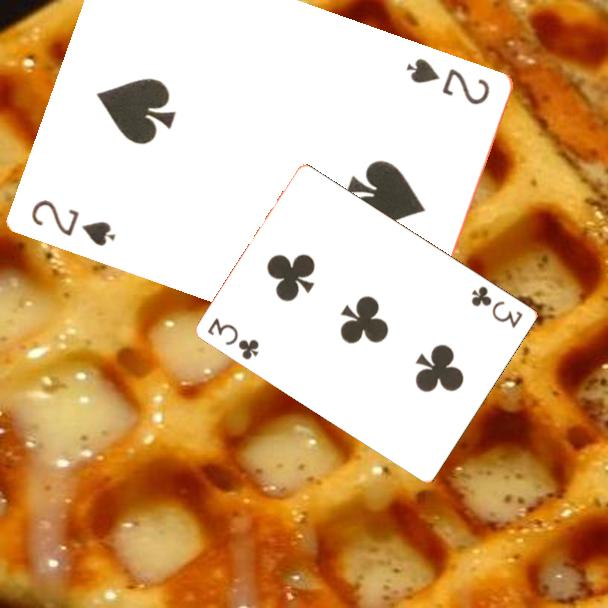c03: (468, 282, 526, 331), (204, 314, 262, 363)
s02: (28, 195, 120, 249), (403, 54, 493, 108)
